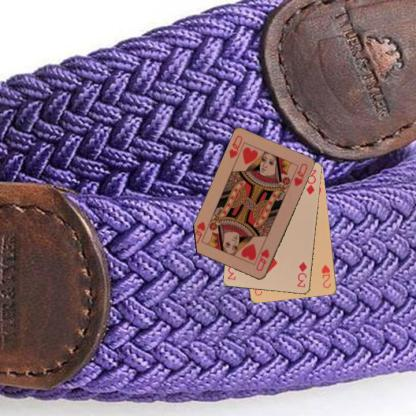2h: (319, 262, 332, 290)
3d: (294, 260, 309, 288)
Qh: (226, 133, 244, 160), (253, 246, 270, 273)
